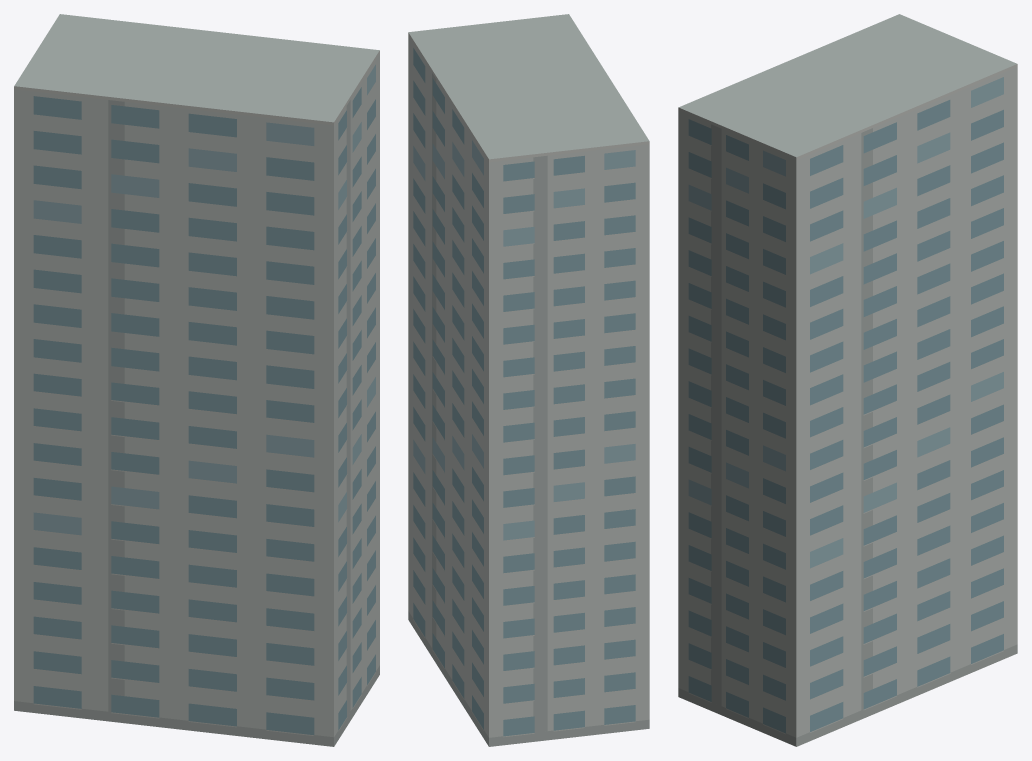
Rendered from residential-6ef94375-c95c-49f4-bcbd-c545cfb1bc26.glb.
The picture shows the model from 3 angles, left to right: view 1: azimuth 30°, elevation 25°; view 2: azimuth 150°, elevation 25°; view 3: azimuth 270°, elevation 25°; orthographic projection. The views are drawn at different scales.
Parts seen in each view (by area): view 1: residential-6ef94375-c95c-49f4-bcbd-c545cfb1bc26.tmp; view 2: residential-6ef94375-c95c-49f4-bcbd-c545cfb1bc26.tmp; view 3: residential-6ef94375-c95c-49f4-bcbd-c545cfb1bc26.tmp.
Boxes of the visible parts, x1,y1,x2,y2 form: residential-6ef94375-c95c-49f4-bcbd-c545cfb1bc26.tmp: (14,14,379,746); residential-6ef94375-c95c-49f4-bcbd-c545cfb1bc26.tmp: (408,14,649,746); residential-6ef94375-c95c-49f4-bcbd-c545cfb1bc26.tmp: (678,14,1017,746).
Bounding box in the file's own units: 25.03 × 48 × 25.02.
